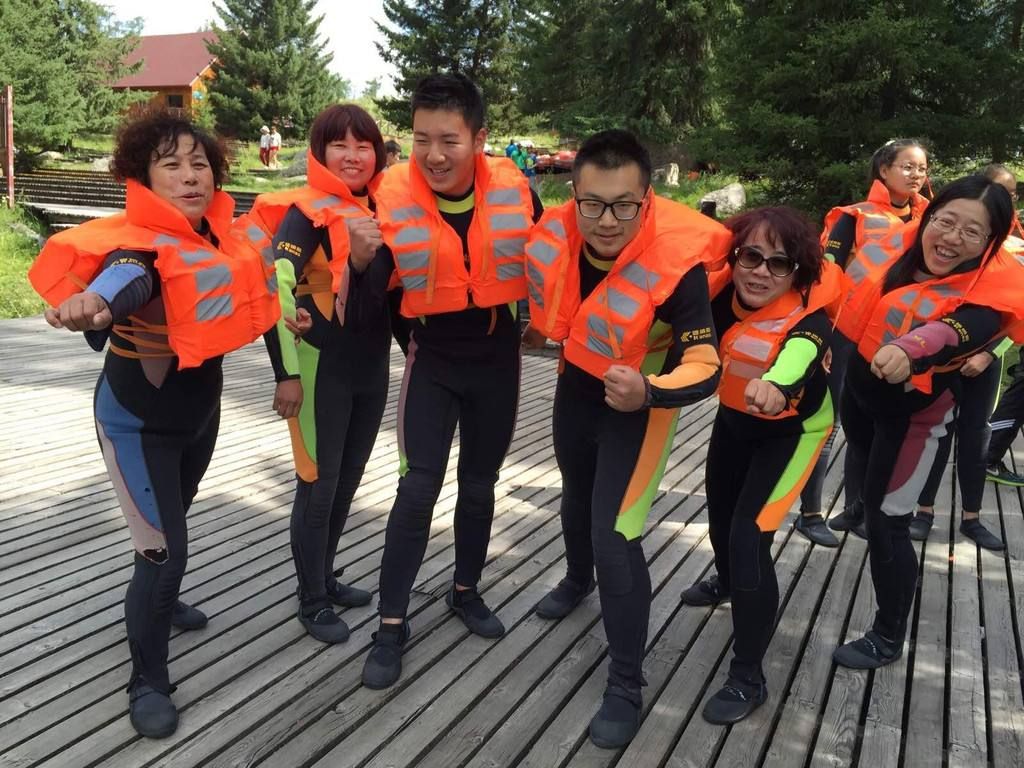reflective_clothes: (34, 182, 274, 445), (535, 174, 720, 411), (383, 144, 543, 381), (853, 223, 1023, 434), (264, 153, 396, 376), (716, 251, 842, 453), (821, 184, 938, 265)
